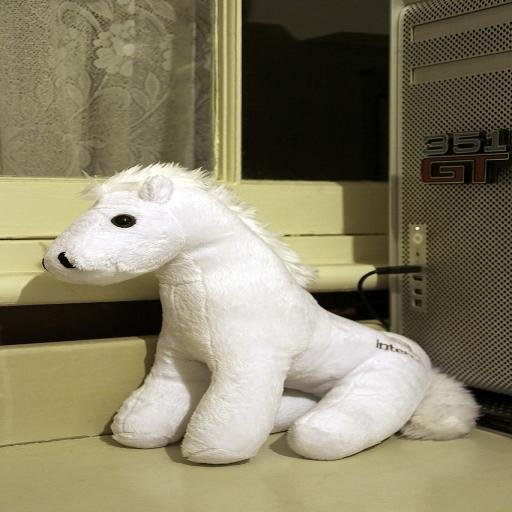horse: (38, 158, 484, 466)
